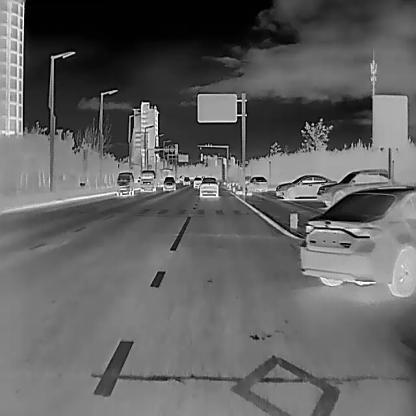car: (301, 185, 416, 298), (315, 170, 395, 205), (274, 172, 335, 199), (115, 171, 134, 196), (199, 177, 219, 199), (139, 169, 156, 192), (247, 175, 267, 192), (162, 175, 175, 191), (193, 176, 201, 187), (183, 175, 189, 185)
